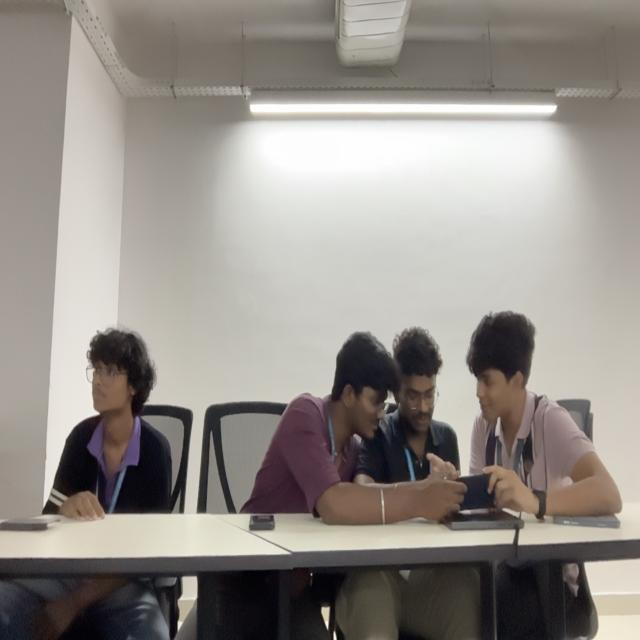Isolated: (41, 327, 173, 520)
socializing: (241, 311, 623, 526)
